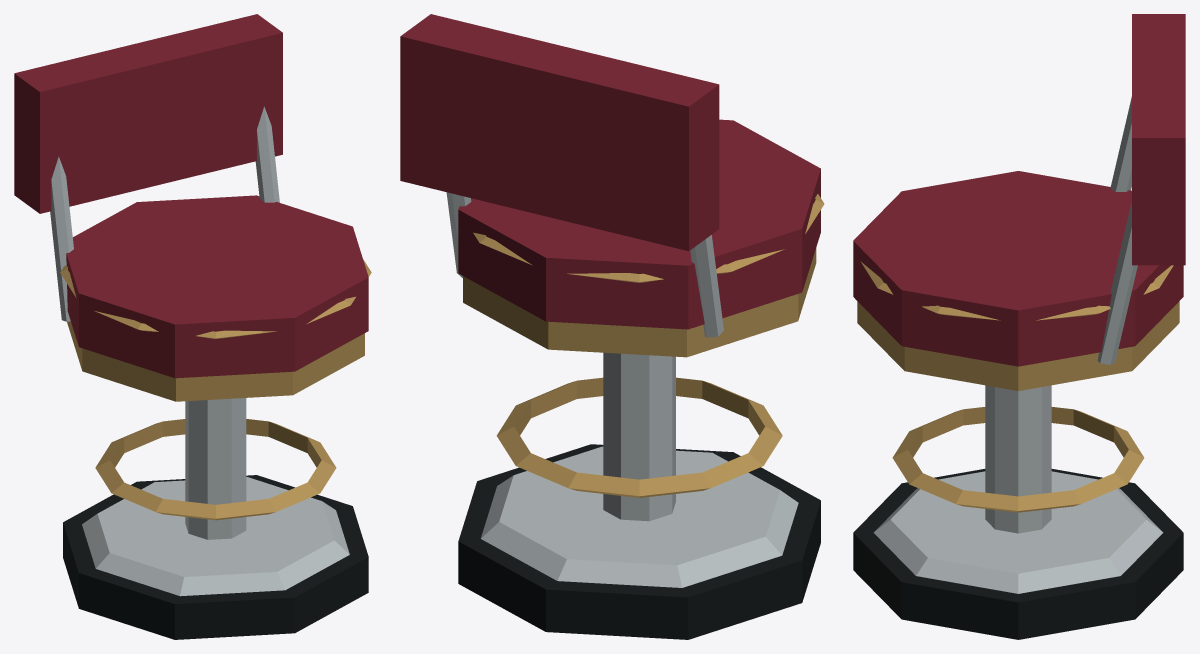
The model's file is casino_stool.glb.
The picture shows the model from 3 angles, left to right: view 1: azimuth 30°, elevation 25°; view 2: azimuth 150°, elevation 25°; view 3: azimuth 270°, elevation 25°; orthographic projection. The views are drawn at different scales.
Visible parts, largest first — view 1: Palette; view 2: Palette; view 3: Palette.
Boxes of the visible parts, x1,y1,x2,y2 form: Palette: (14,14,371,639); Palette: (400,14,824,639); Palette: (853,14,1185,639).
Size of the model in its own units: 0.8 by 1.32 by 0.805.
